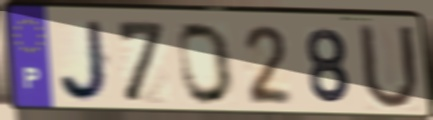2: (242, 23, 295, 107)
7: (114, 18, 170, 107)
8: (304, 26, 353, 106)
J: (56, 19, 114, 105)
O: (176, 19, 237, 108)
U: (355, 20, 423, 114)
